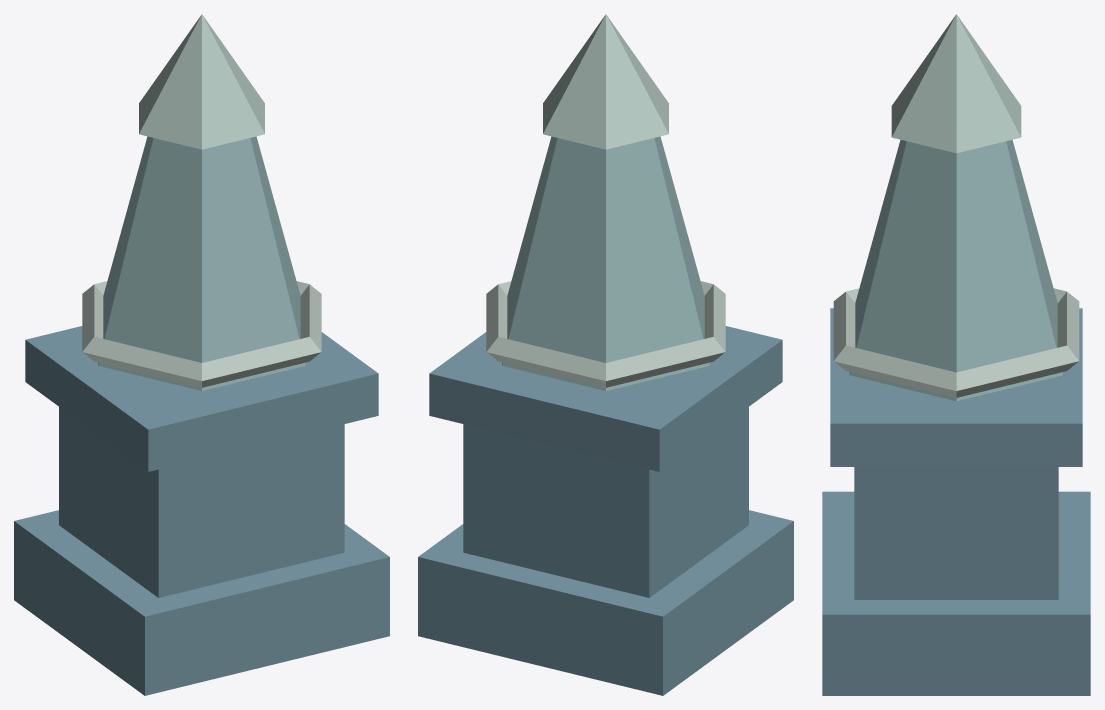
Rendered from map-exclusive-v3__frost_09.glb.
3 views of the same model, side by side, from view 1: azimuth 30°, elevation 25°; view 2: azimuth 150°, elevation 25°; view 3: azimuth 270°, elevation 25° (orthographic). The views are drawn at different scales.
Parts seen in each view (by area): view 1: frost_09; view 2: frost_09; view 3: frost_09.
Part boxes in pixels (x1,y1,x2,y2): frost_09: (14,14,389,695); frost_09: (418,14,793,695); frost_09: (822,14,1090,695).
Size of the model in its own units: 0.66 by 1.55 by 0.61.
